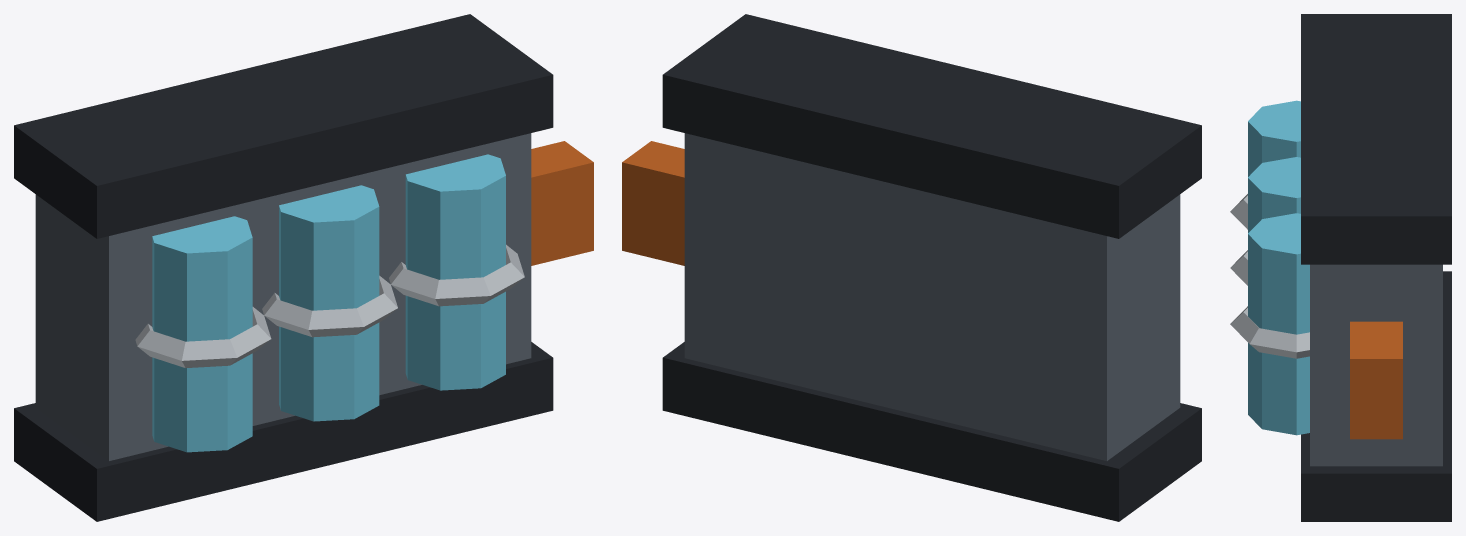
Rendered from power-belt.glb.
3 views of the same model, side by side, from view 1: azimuth 30°, elevation 25°; view 2: azimuth 150°, elevation 25°; view 3: azimuth 270°, elevation 25° (orthographic). The views are drawn at different scales.
Visible parts, largest first — view 1: m; view 2: m; view 3: m.
Part boxes in pixels (<box>): m: <box>14,14,593,521</box>; m: <box>622,14,1201,521</box>; m: <box>1230,14,1451,521</box>.
Size of the model in its own units: 0.11 by 0.0674 by 0.0444.
